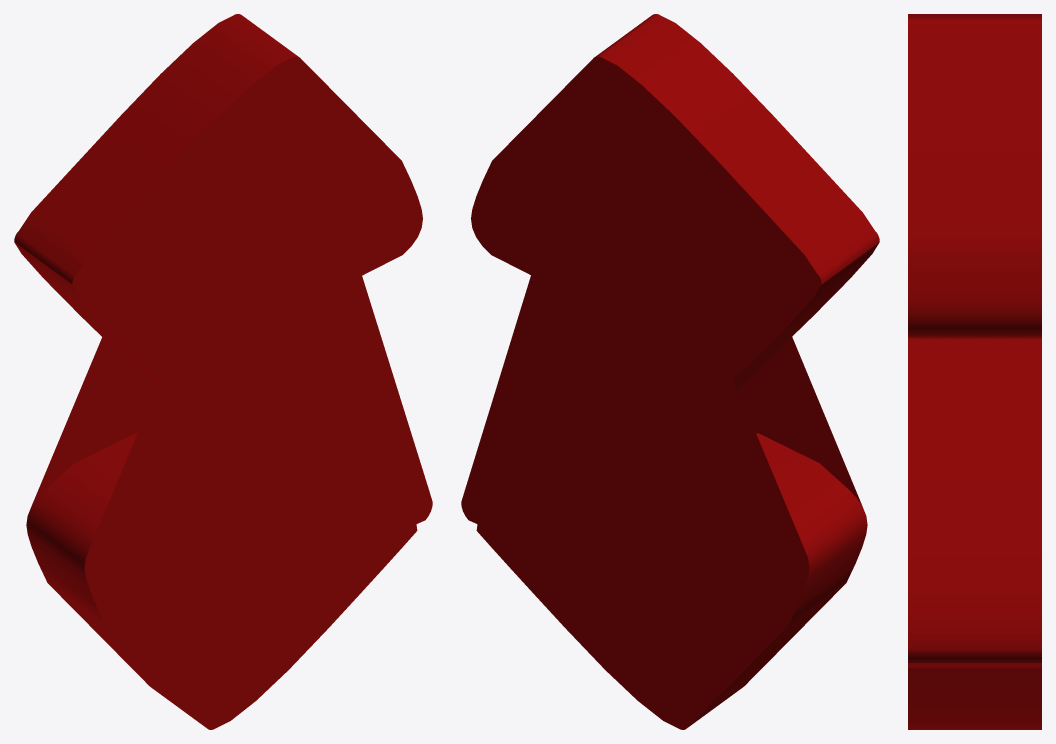
The picture shows the model from 3 angles, left to right: view 1: azimuth 30°, elevation 25°; view 2: azimuth 150°, elevation 25°; view 3: azimuth 270°, elevation 25°; orthographic projection. The views are drawn at different scales.
Parts seen in each view (by area): view 1: polySurface140; view 2: polySurface140; view 3: polySurface140.
Part boxes in pixels (left/top/right/bottom): polySurface140: left=14, top=14, right=432, bottom=729; polySurface140: left=461, top=14, right=879, bottom=729; polySurface140: left=908, top=14, right=1041, bottom=729.
Size of the model in its own units: 2.53 by 4.38 by 0.7068.
